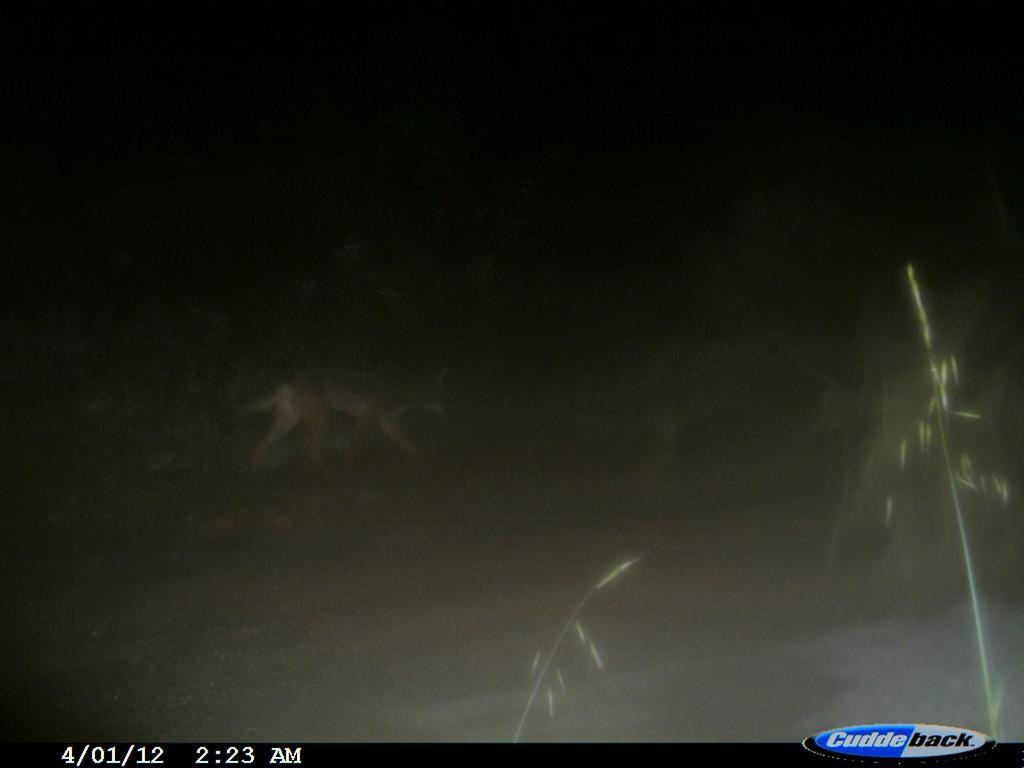coyote: (232, 350, 464, 489)
